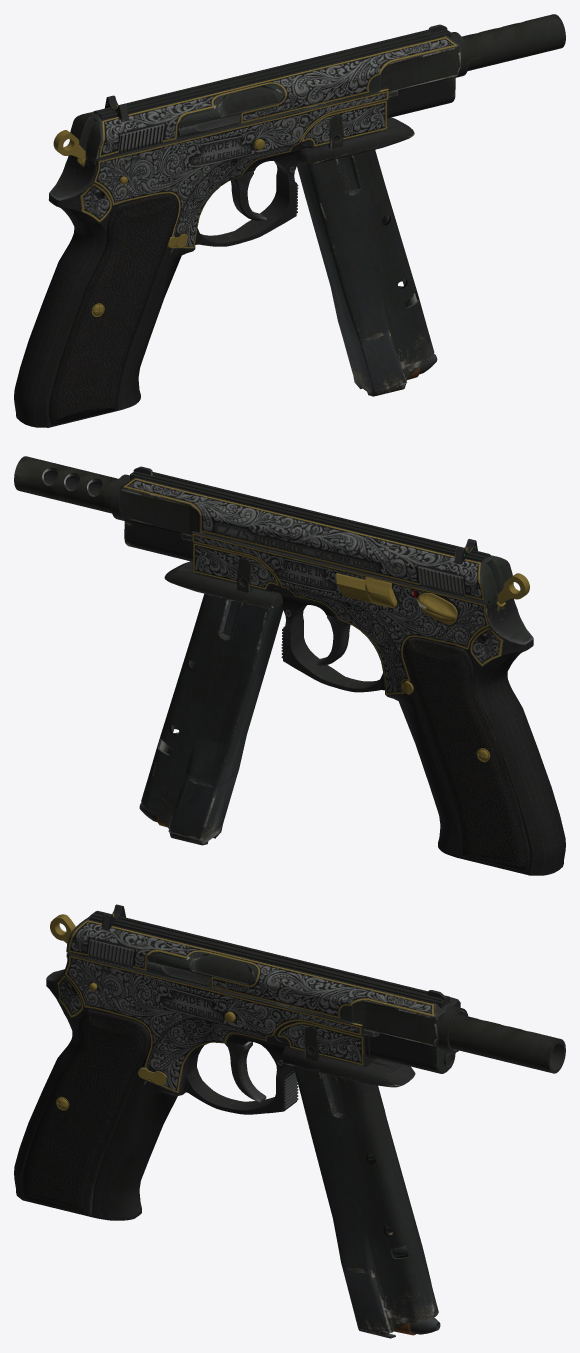
File: w_machinepistol_victoria.glb
3 renders of one model, top to bottom at view 1: azimuth 30°, elevation 25°; view 2: azimuth 150°, elevation 25°; view 3: azimuth 330°, elevation 25°, orthographic.
Visible parts, largest first — view 1: Gun_Root; view 2: Gun_Root; view 3: Gun_Root.
Part boxes in pixels (<box>): Gun_Root: <box>14,14,565,427</box>; Gun_Root: <box>14,456,565,875</box>; Gun_Root: <box>14,904,565,1338</box>.
Size of the model in its own units: 0.2804 by 0.1769 by 0.0328.
1 material, 1 textured.
